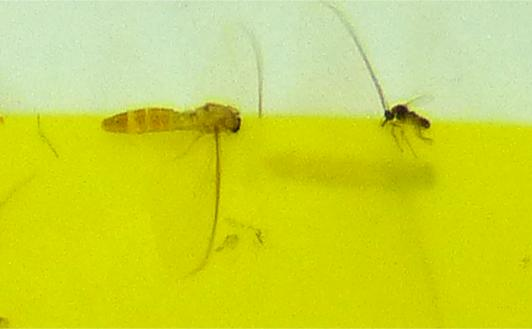Brachycera: (377, 103, 432, 145)
Ephemeroptera: (100, 100, 246, 229)
